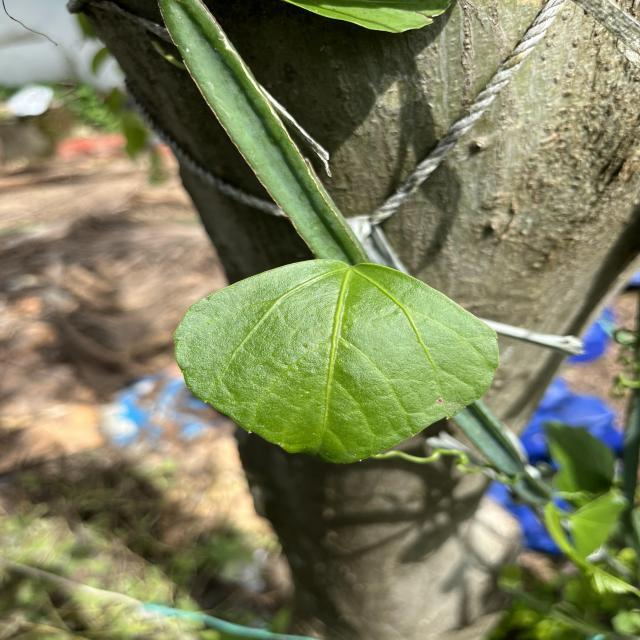Cissus quadrangularis: (170, 256, 501, 467)
